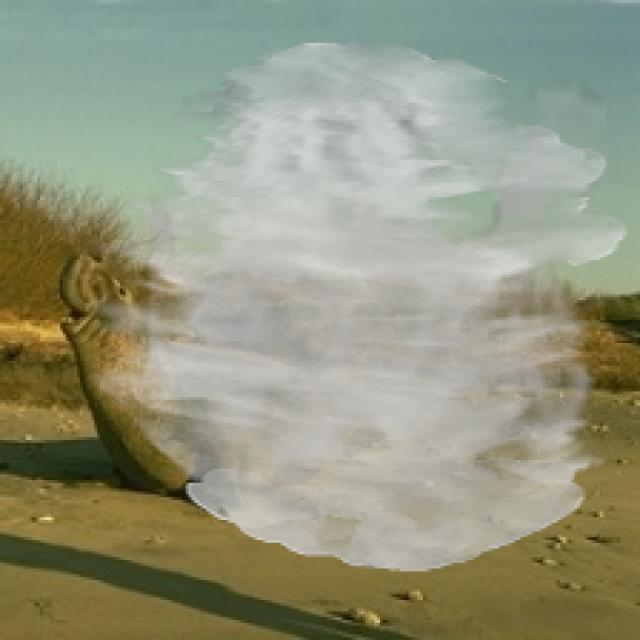smoke: (86, 40, 628, 571)
